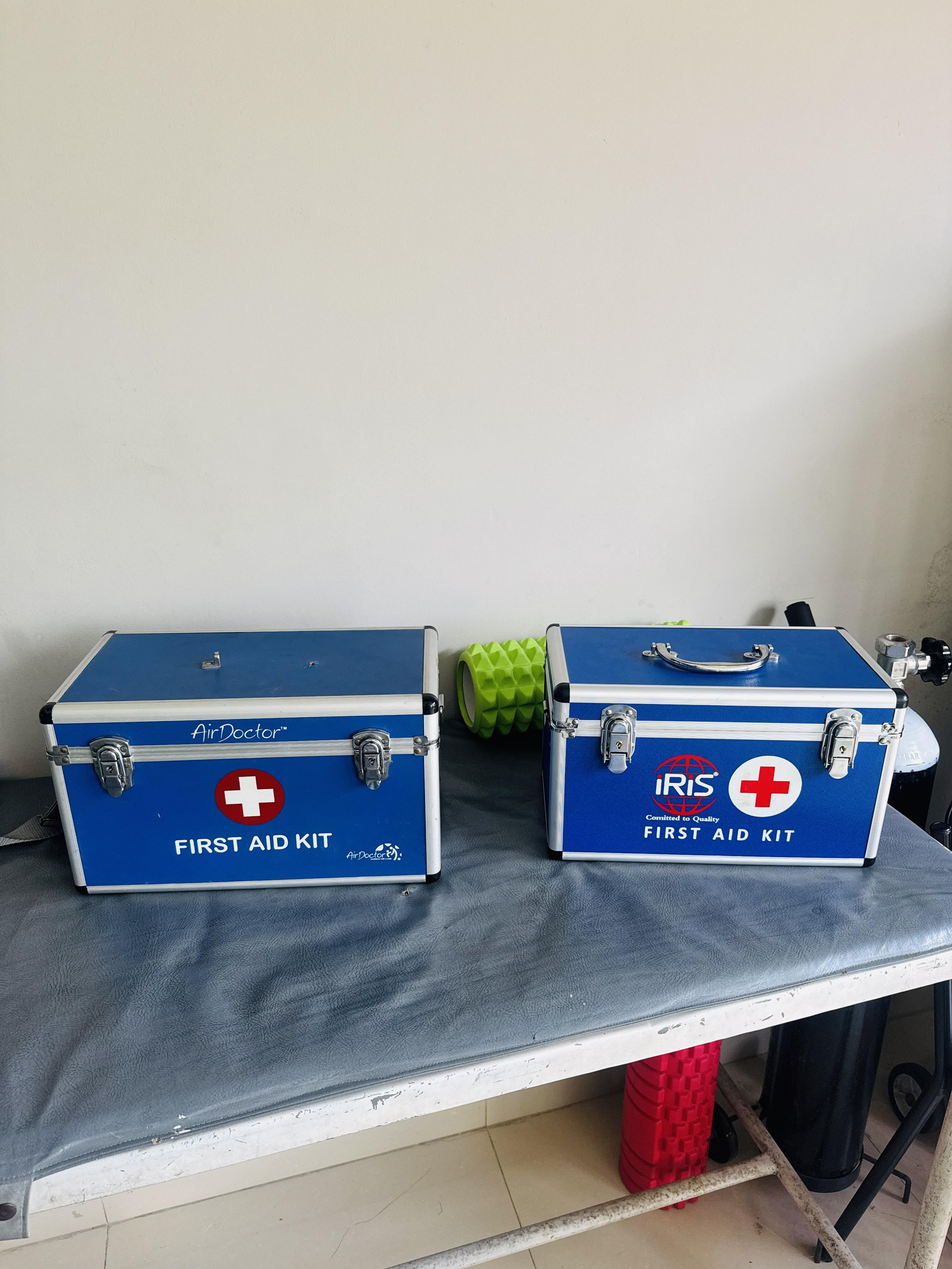FirstAidBox: (41, 609, 462, 910), (523, 602, 951, 875)
